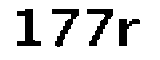1: (10, 7, 44, 54)
7: (49, 6, 82, 53), (83, 3, 116, 49)
r: (118, 16, 145, 50)
